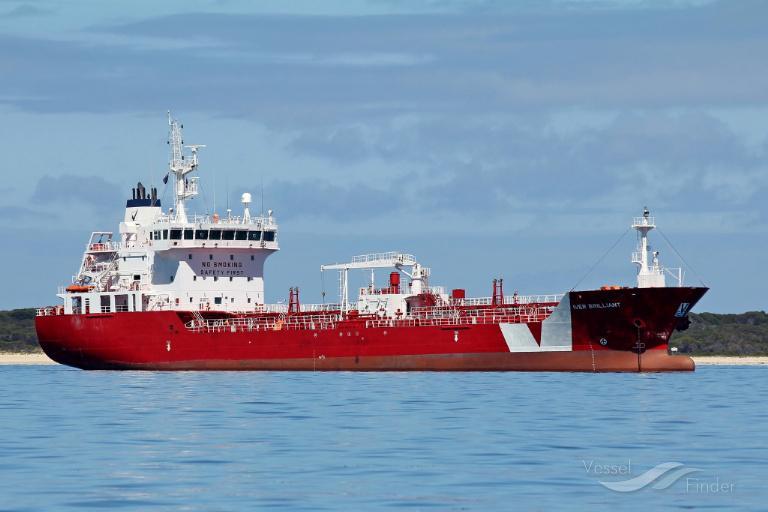OCR: (196, 266, 250, 282), (566, 300, 626, 312)
